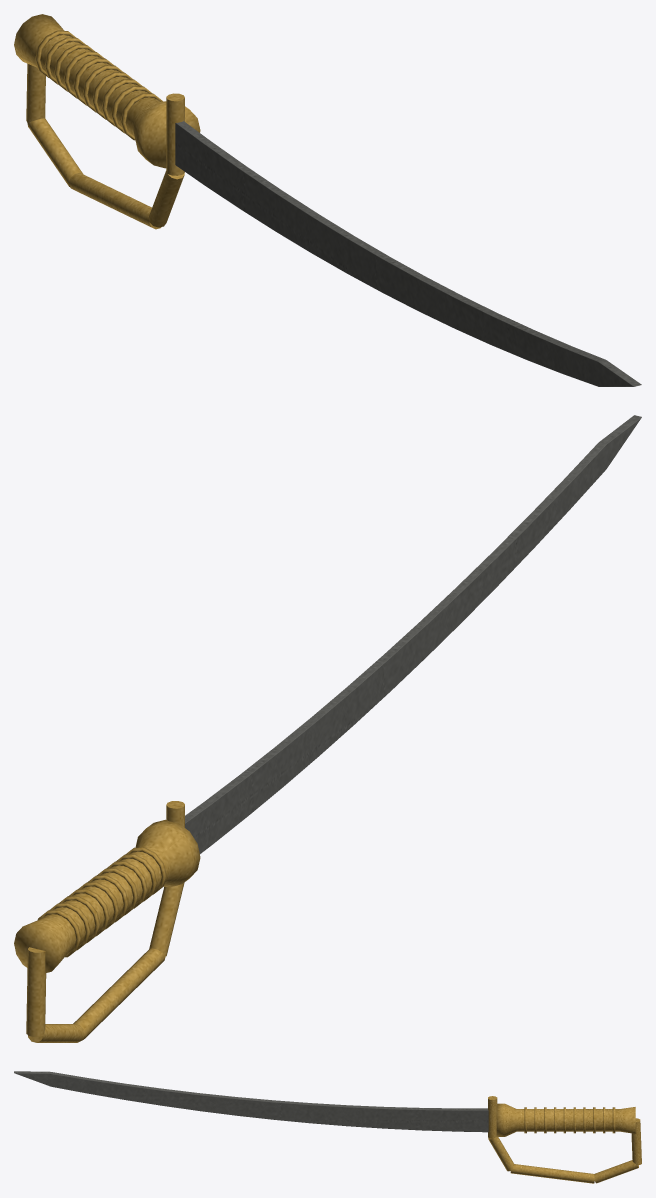
File: sabre_briquet.glb
3 views of the same model, one above another, from view 1: azimuth 30°, elevation 25°; view 2: azimuth 150°, elevation 25°; view 3: azimuth 270°, elevation 25° (orthographic). The views are drawn at different scales.
Parts seen in each view (by area): view 1: sabre_briquet.body; view 2: sabre_briquet.body; view 3: sabre_briquet.body.
Part boxes in pixels (x1,y1,x2,y2): sabre_briquet.body: (14, 14, 641, 386); sabre_briquet.body: (14, 415, 641, 1042); sabre_briquet.body: (14, 1071, 641, 1183).
Bounding box in the file's own units: 0.042 × 0.1496 × 0.7675.
2 materials, 2 textured.
